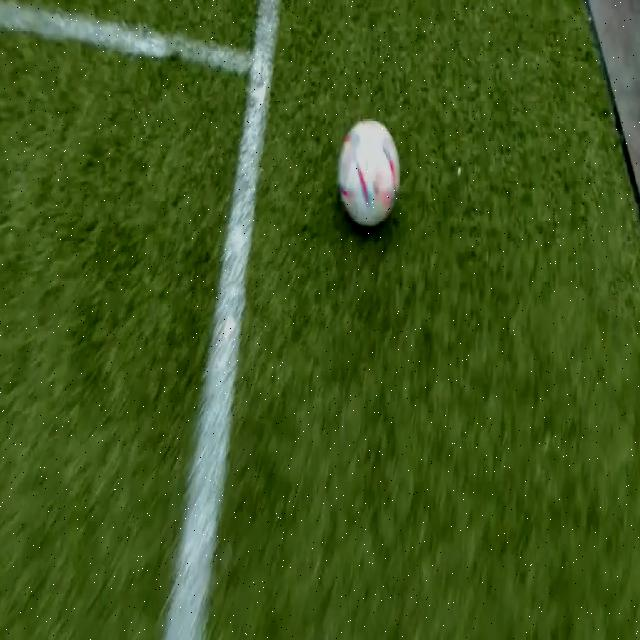ball: (336, 118, 401, 227)
